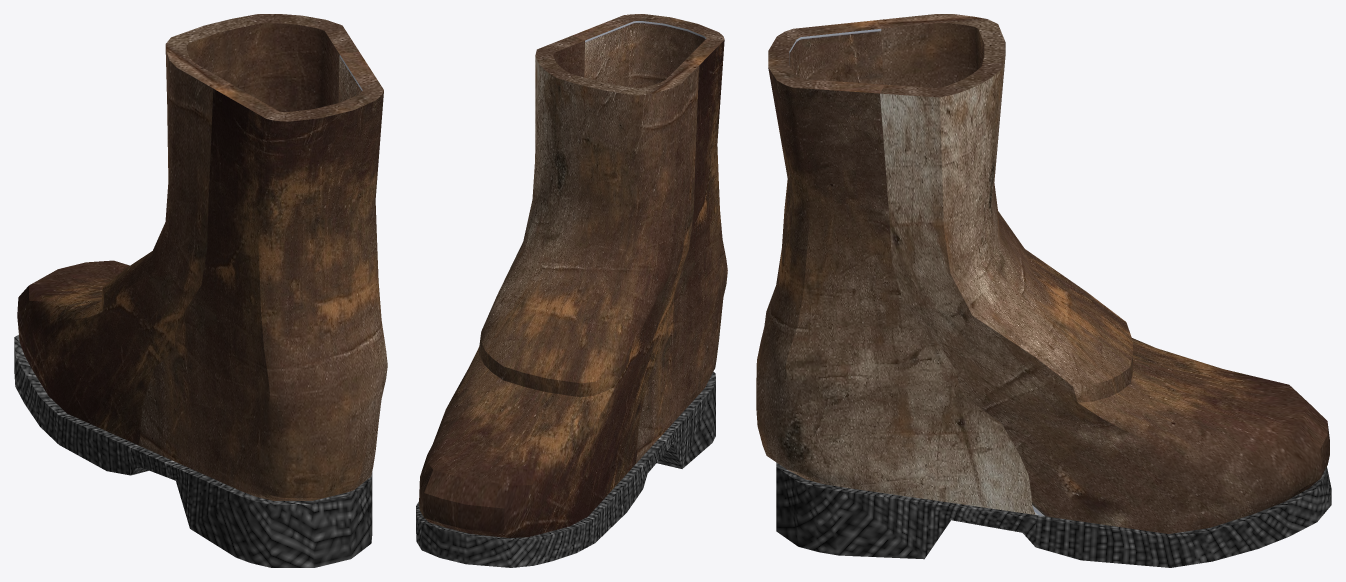
File: Botinok.fbx
3 renders of one model, left to right at view 1: azimuth 30°, elevation 25°; view 2: azimuth 150°, elevation 25°; view 3: azimuth 270°, elevation 25°, orthographic. The views are drawn at different scales.
Visible parts, largest first — view 1: Cube; view 2: Cube; view 3: Cube.
Part boxes in pixels (x1,y1,x2,y2): Cube: [14, 14, 387, 567]; Cube: [416, 14, 727, 567]; Cube: [756, 14, 1331, 567].
Bounding box in the file's own units: 0.8754 × 2.32 × 2.1.
